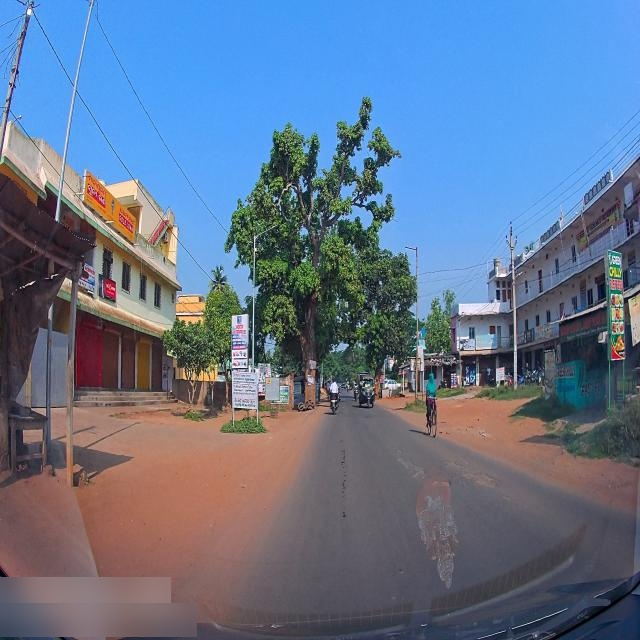pothole: (399, 453, 427, 483), (472, 471, 494, 493), (448, 460, 461, 469)
